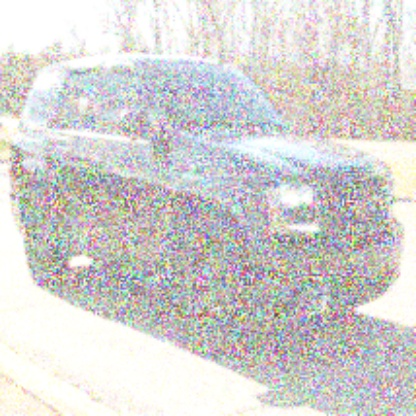Vehicle: (7, 51, 406, 361)
